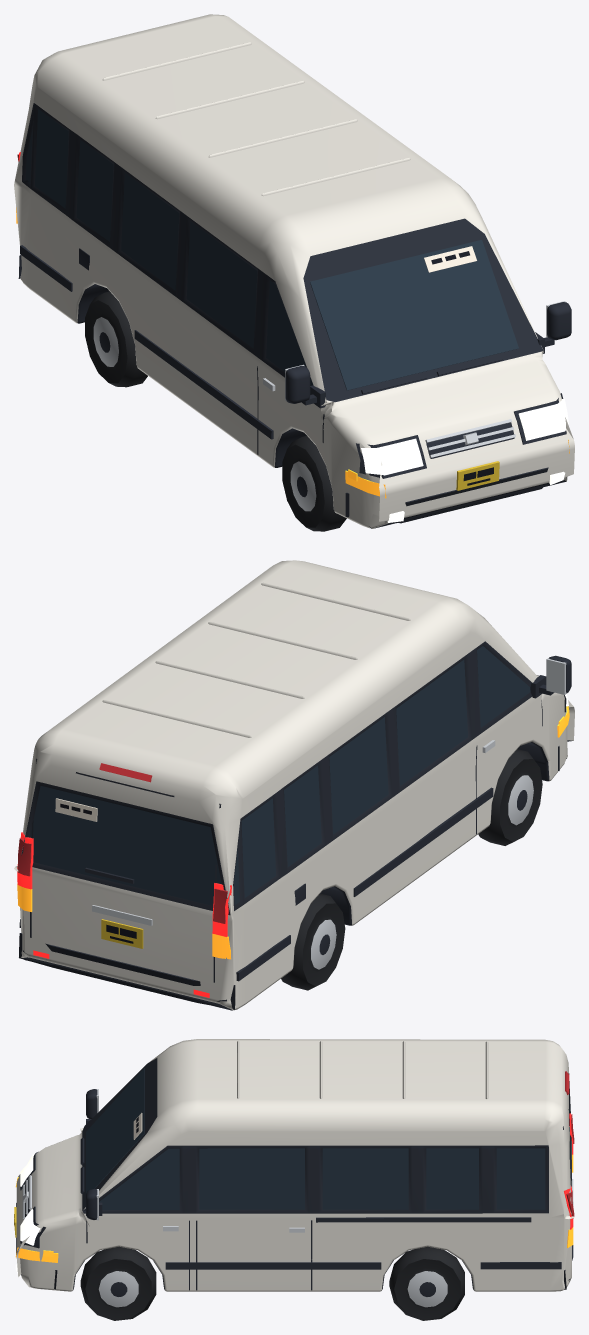
The model's file is veh_van.glb.
3 renders of one model, top to bottom at view 1: azimuth 30°, elevation 25°; view 2: azimuth 150°, elevation 25°; view 3: azimuth 270°, elevation 25°, orthographic. The views are drawn at different scales.
Parts seen in each view (by area): view 1: body, wheel_FR, wheel_RR, head_lights, mirror_R, mirror_L; view 2: body, wheel_RR, wheel_FR, brake_lights, mirror_R; view 3: body, wheel_FL, wheel_RL, head_lights, mirror_L, mirror_R.
Boxes of the visible parts, x1,y1,x2,y2 form: body: [14, 14, 574, 528]; wheel_FR: [282, 436, 346, 531]; wheel_RR: [85, 291, 147, 387]; head_lights: [361, 398, 568, 522]; mirror_R: [285, 364, 325, 408]; mirror_L: [535, 301, 571, 353]; body: [14, 560, 574, 1010]; wheel_RR: [281, 893, 345, 990]; wheel_FR: [478, 749, 542, 845]; brake_lights: [17, 763, 227, 923]; mirror_R: [530, 655, 571, 698]; body: [14, 1039, 574, 1291]; wheel_FL: [80, 1246, 156, 1320]; wheel_RL: [389, 1246, 464, 1320]; head_lights: [15, 1151, 40, 1276]; mirror_L: [86, 1189, 102, 1220]; mirror_R: [86, 1089, 98, 1123].
Bounding box in the file's own units: 2.47 × 2.27 × 5.41.
